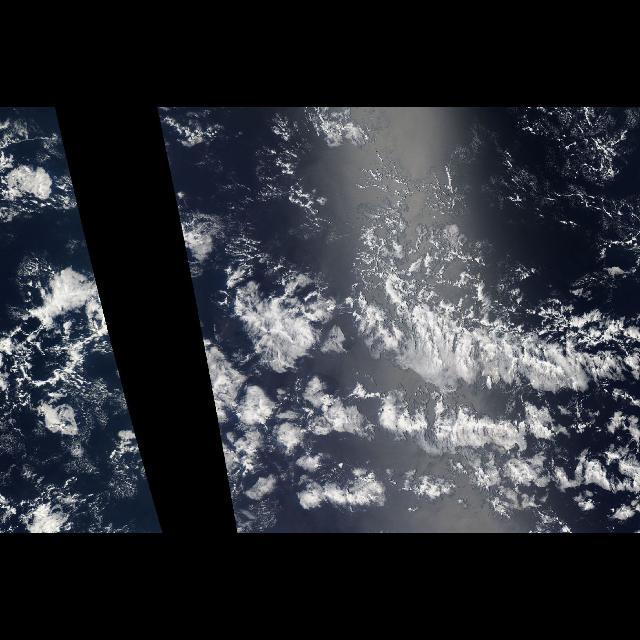Fish: (204, 287, 636, 447)
Flower: (215, 391, 639, 533)
